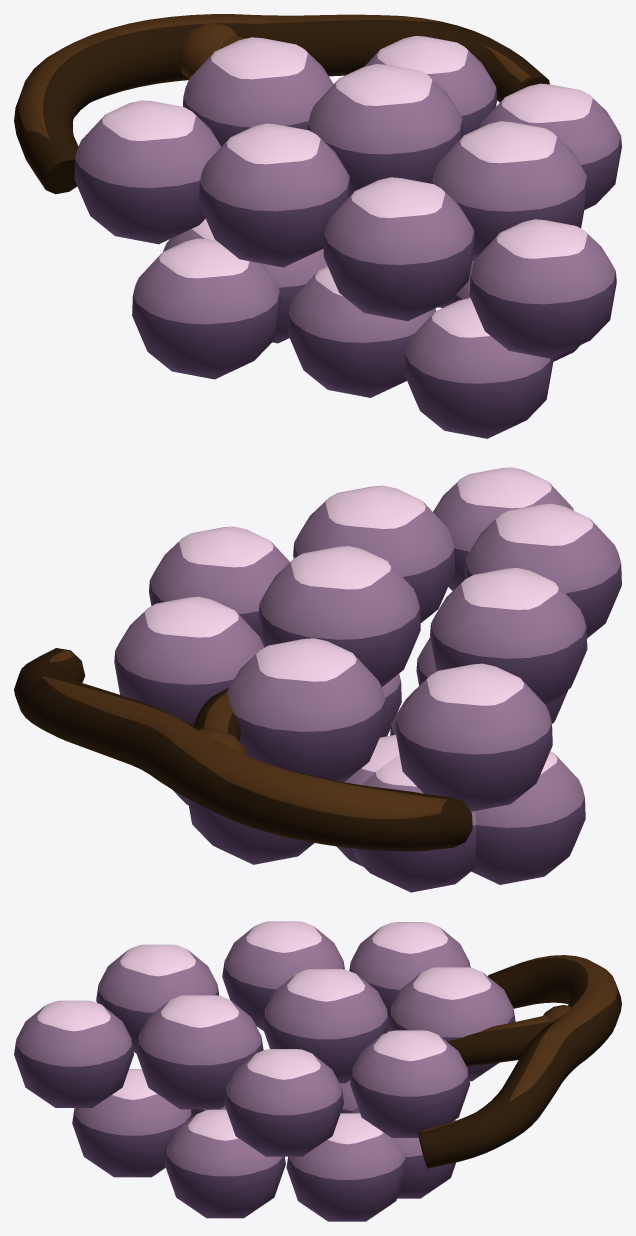
The model's file is grapes_purple.glb.
The picture shows the model from 3 angles, top to bottom: view 1: azimuth 30°, elevation 25°; view 2: azimuth 150°, elevation 25°; view 3: azimuth 270°, elevation 25°; orthographic projection. The views are drawn at different scales.
Visible parts, largest first — view 1: grapes_purple; view 2: grapes_purple; view 3: grapes_purple.
Part boxes in pixels (x1,y1,x2,y2): grapes_purple: (14, 14, 621, 438); grapes_purple: (14, 467, 621, 892); grapes_purple: (14, 921, 621, 1221).
Bounding box in the file's own units: 10.41 × 5.56 × 14.47.
